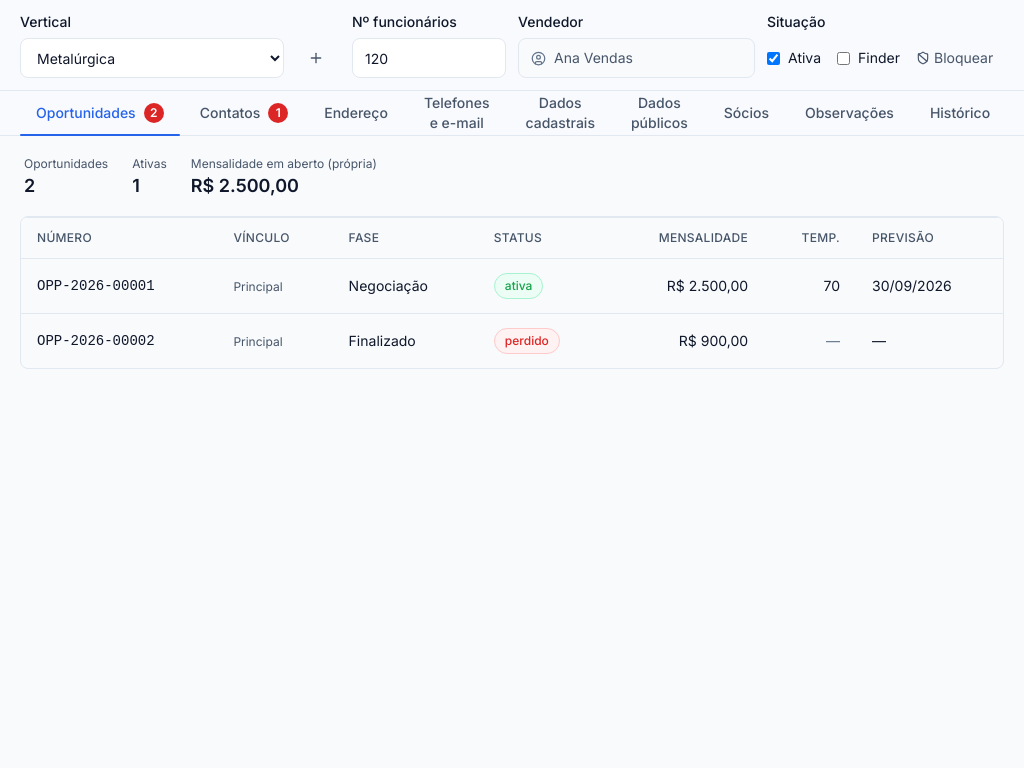
ContaDetalhe — form único › mostra erro quando o PATCH falha
Click the tab with test id "tab-cadastrais" at (560, 113), box [510,91,611,135]
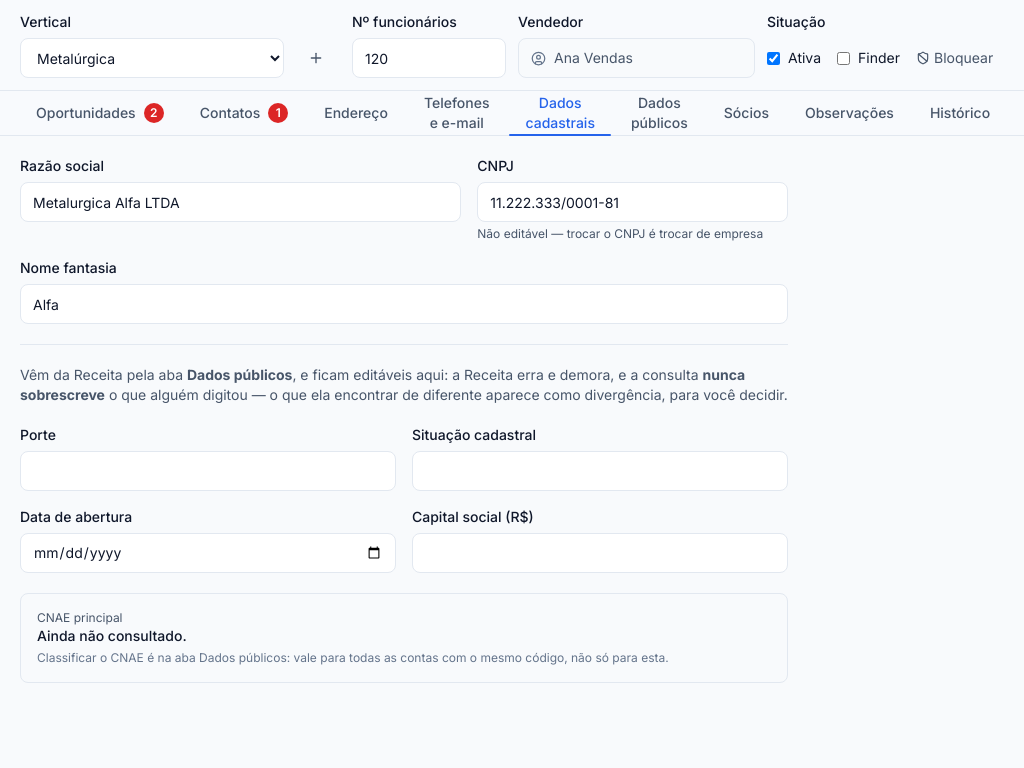
Replace the text in the field labelled "Razão social" with "X" at (241, 202), box [20,182,461,222]
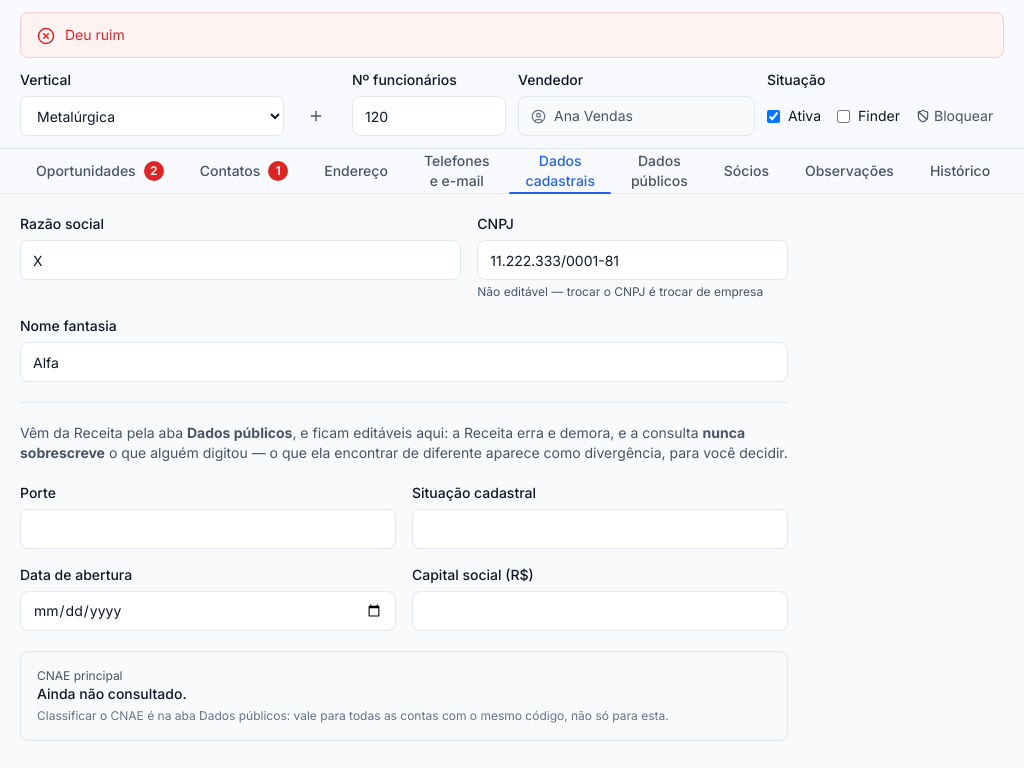
Expected: the text "Deu ruim" is shown, [65,26,125,43]
